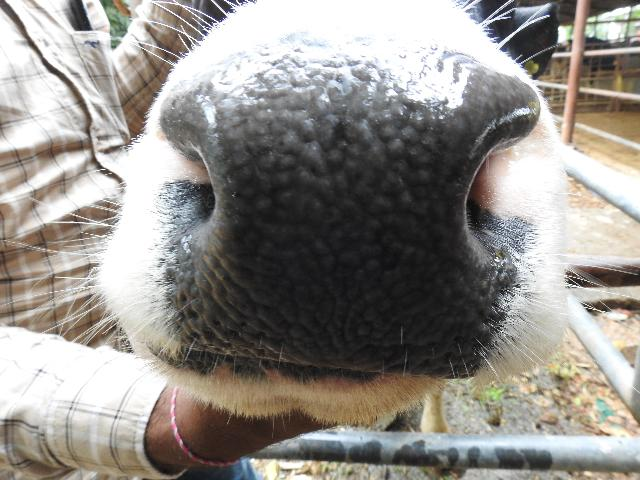Muzzle: (191, 87, 479, 357)
